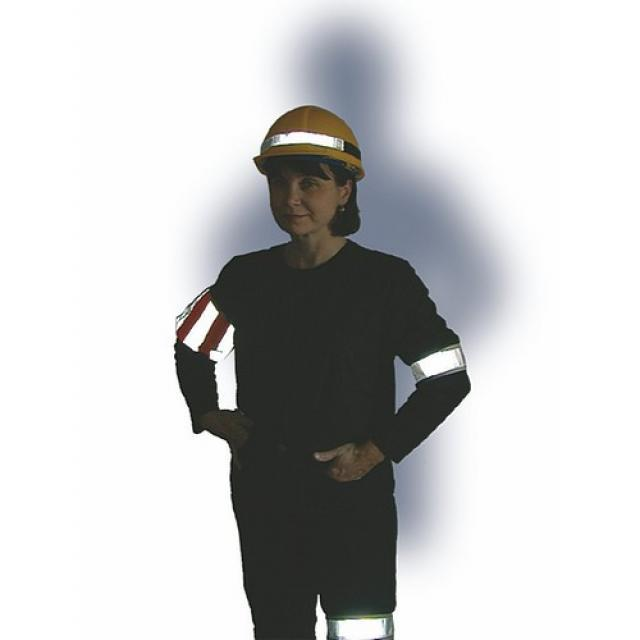safety_helmet: (244, 100, 371, 187)
